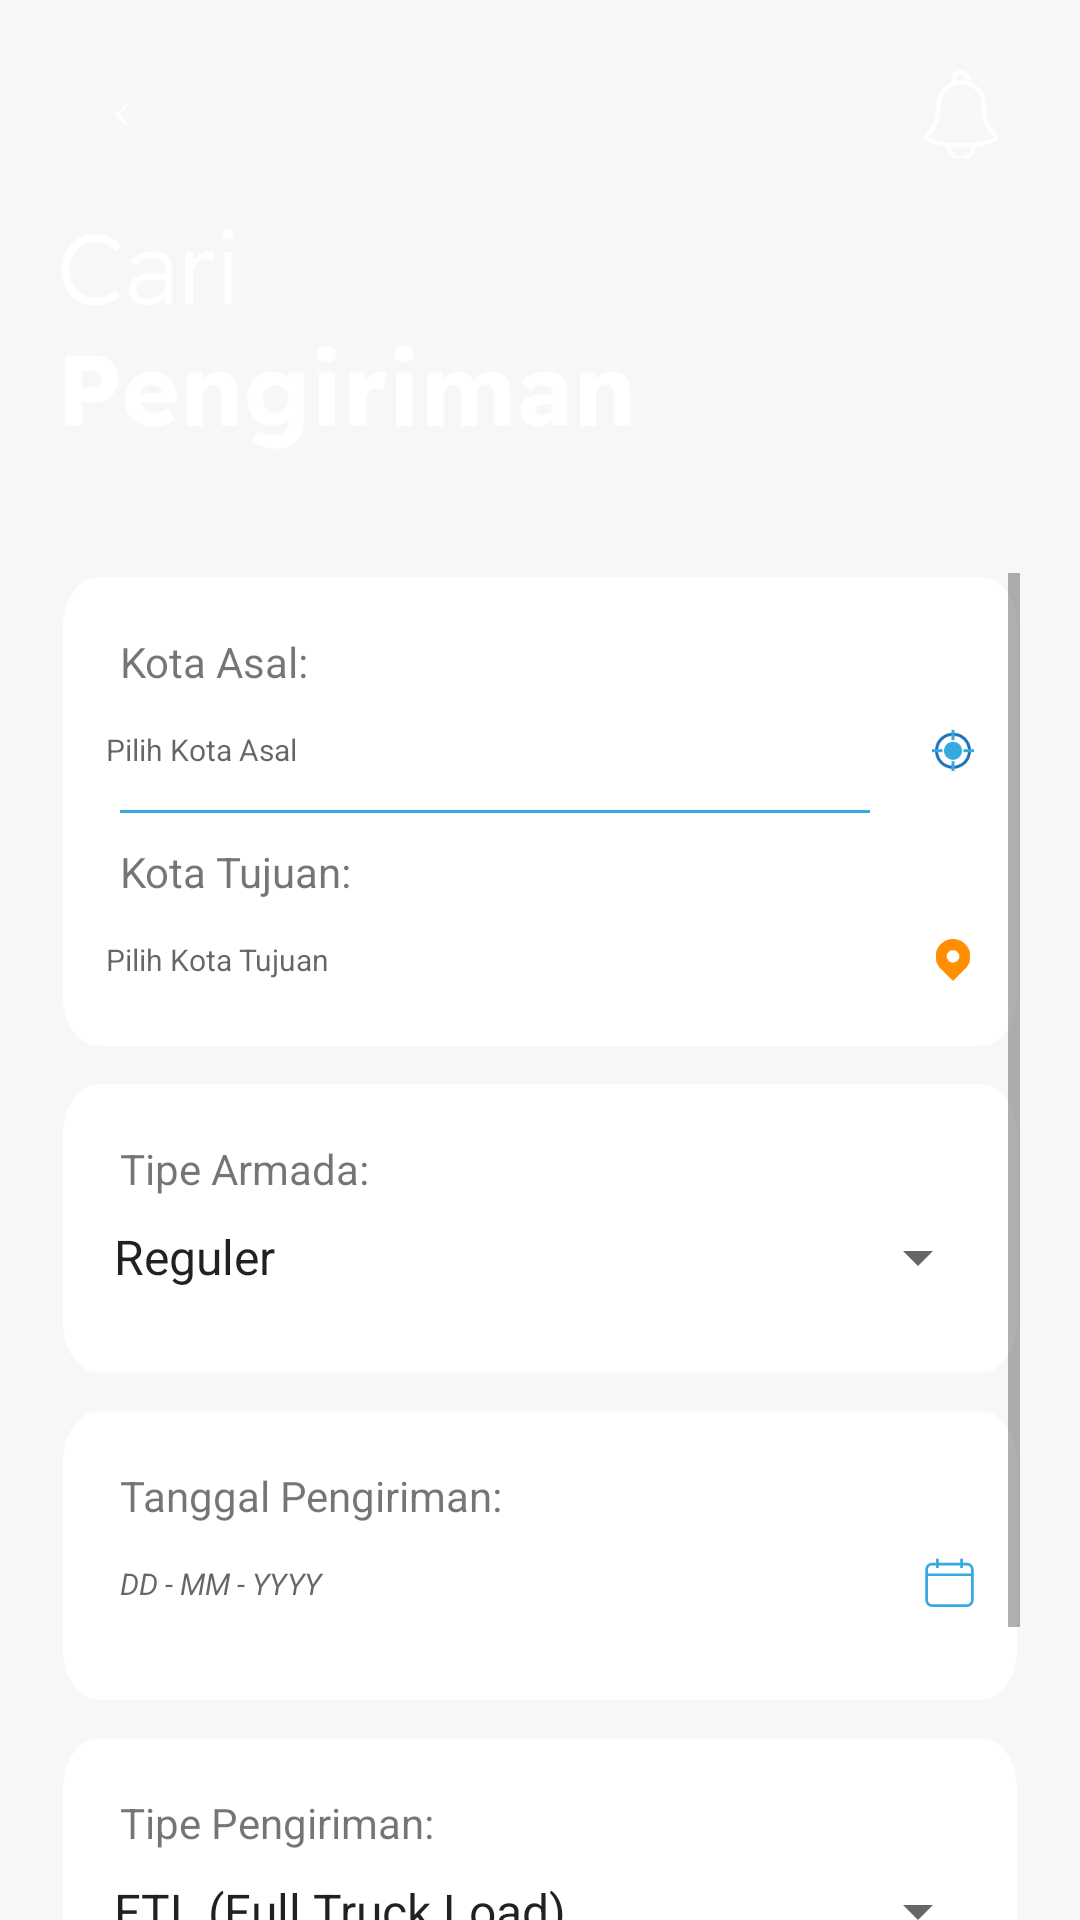

Icon click points for this 1080 x 1920 phone screenshot, format [x,y]:
date: [949,1582]
